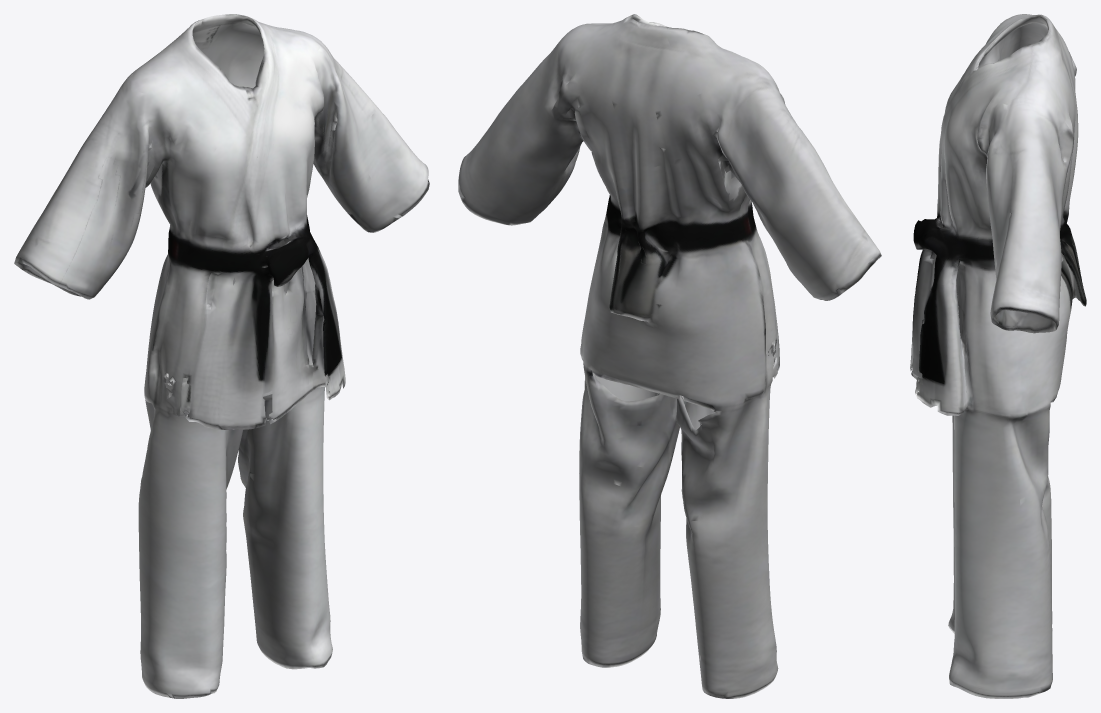
The model's file is kimono.glb.
3 renders of one model, left to right at view 1: azimuth 30°, elevation 25°; view 2: azimuth 150°, elevation 25°; view 3: azimuth 270°, elevation 25°, orthographic. The views are drawn at different scales.
Size of the model in its own units: 1.31 by 2 by 0.5018.
Materials: 1 (1 with a texture image).
